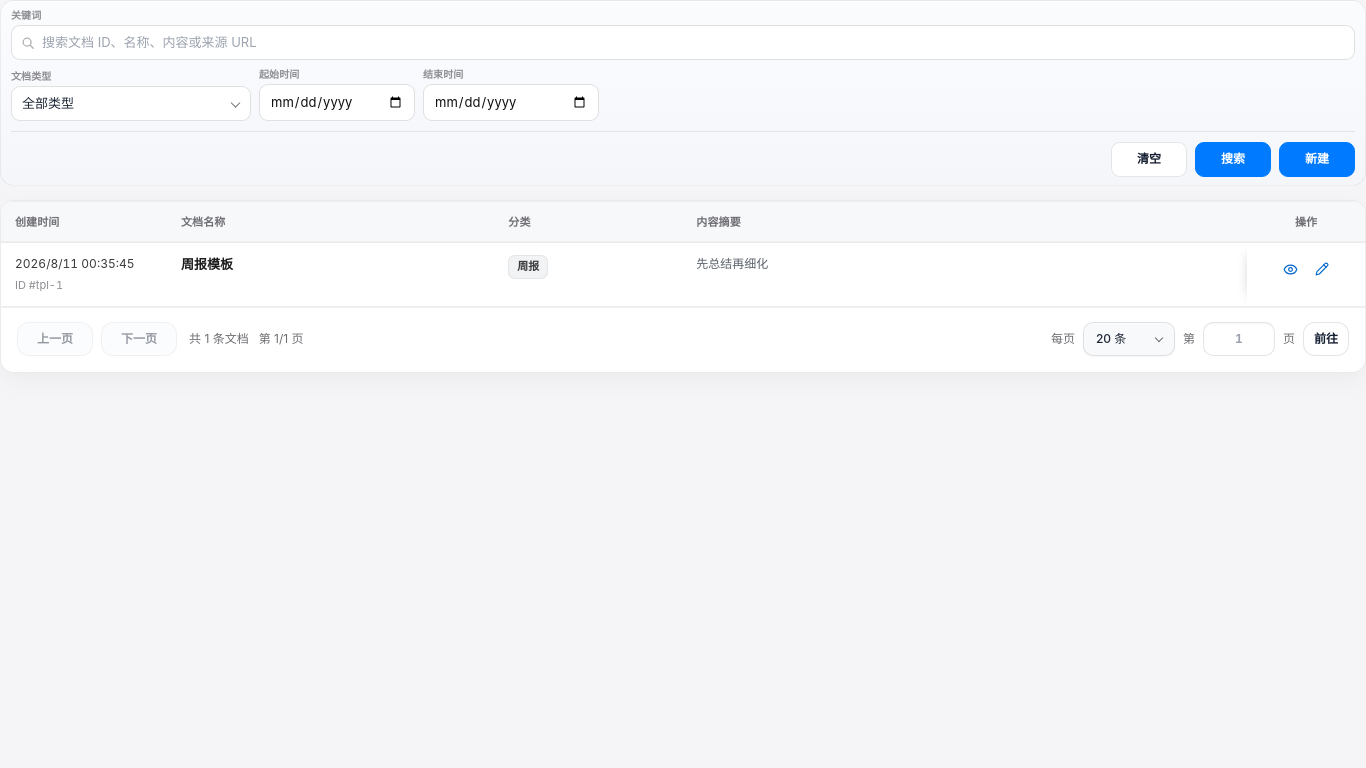
it: Bake 详情展示优化 › 摘要失败提供重试入口，并重新读取真实任务状态
This screenshot has width=1366, height=768.
Click the button named "查看文档「周报模板」详情": (1290, 269) [1276,255,1304,283]
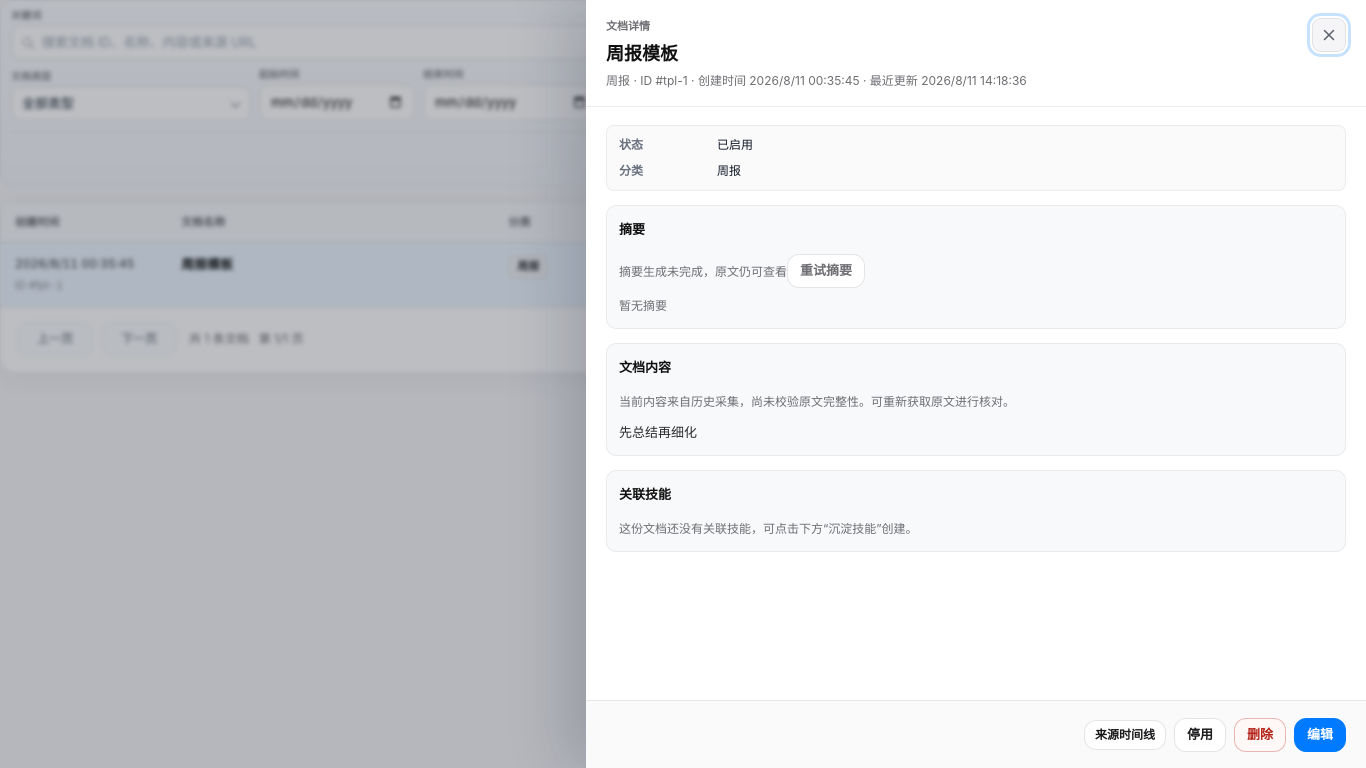
Click the button "重试摘要": (826, 271) [787,254,865,288]
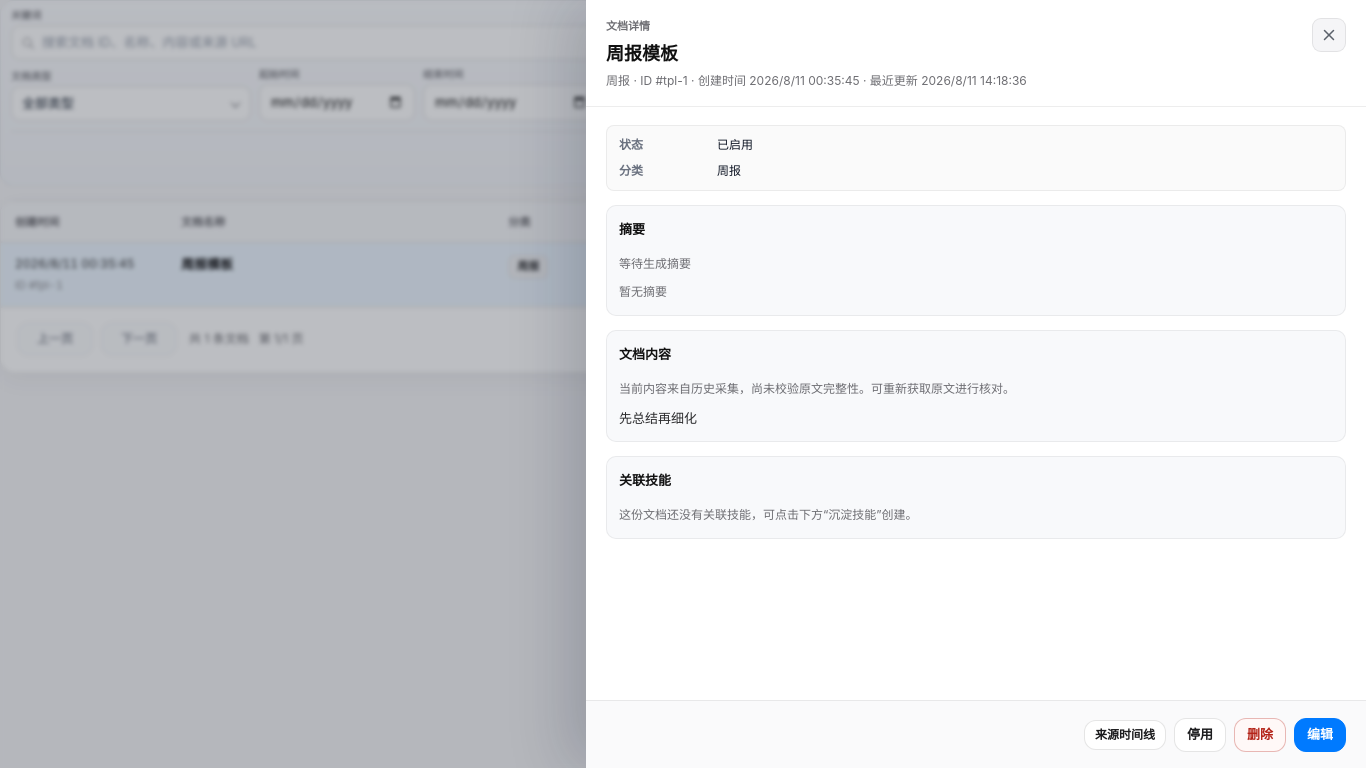
Expected: the text "等待生成摘要" is shown, [619,256,691,271]
